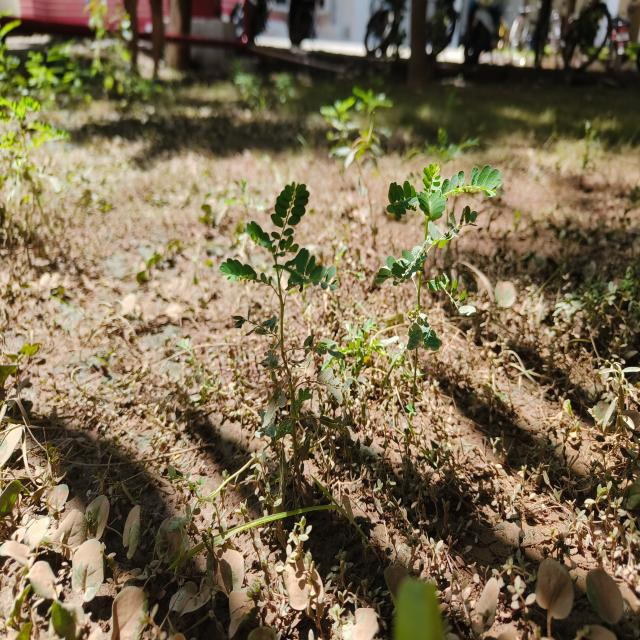weed: (221, 182, 331, 441), (373, 147, 499, 358)
